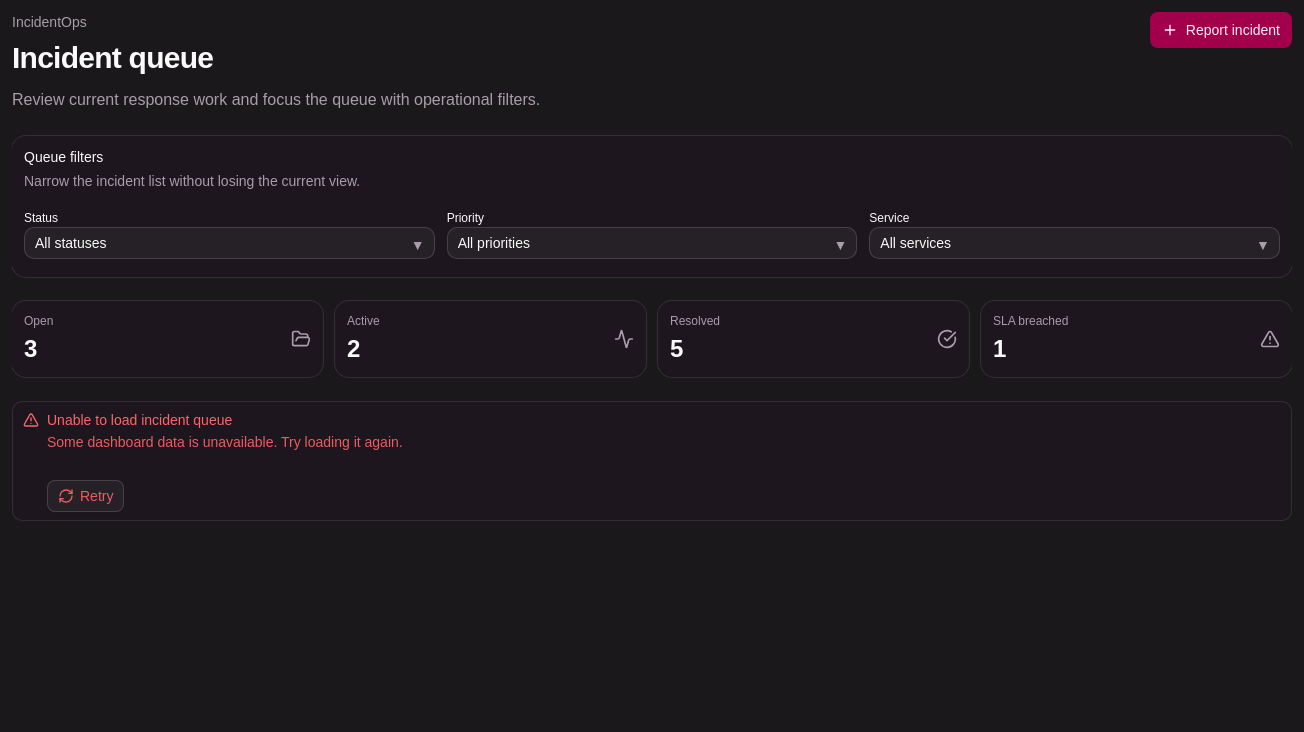
Test: DashboardPage › shows a retryable queue error without inventing incident data
Check: the text "Unable to load incident queue" is shown, box 47,412 -> 232,428
What coordinates should you click on to do the following:
click the button "Retry"
I would click on:
 (86, 496)
Its box is 47,480 -> 124,512.
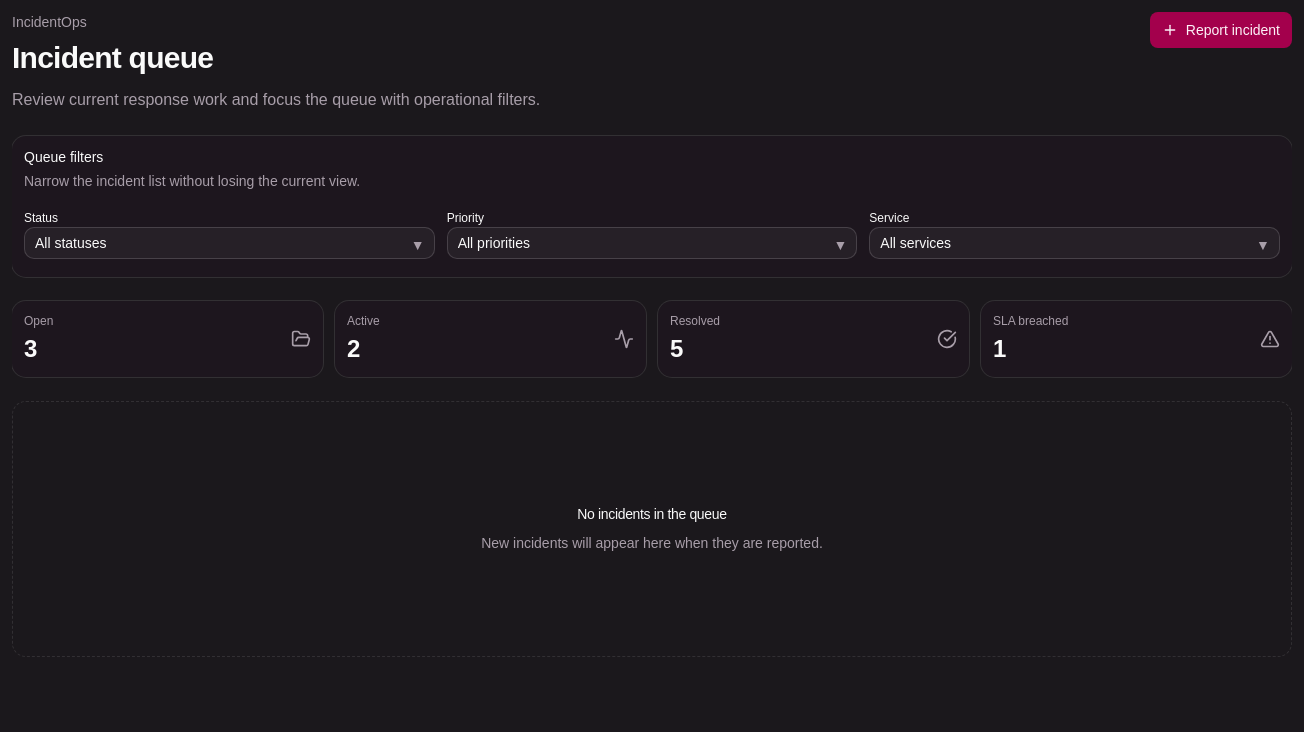
Check: the text "No incidents in the queue" is shown, box 577,504 -> 727,524
